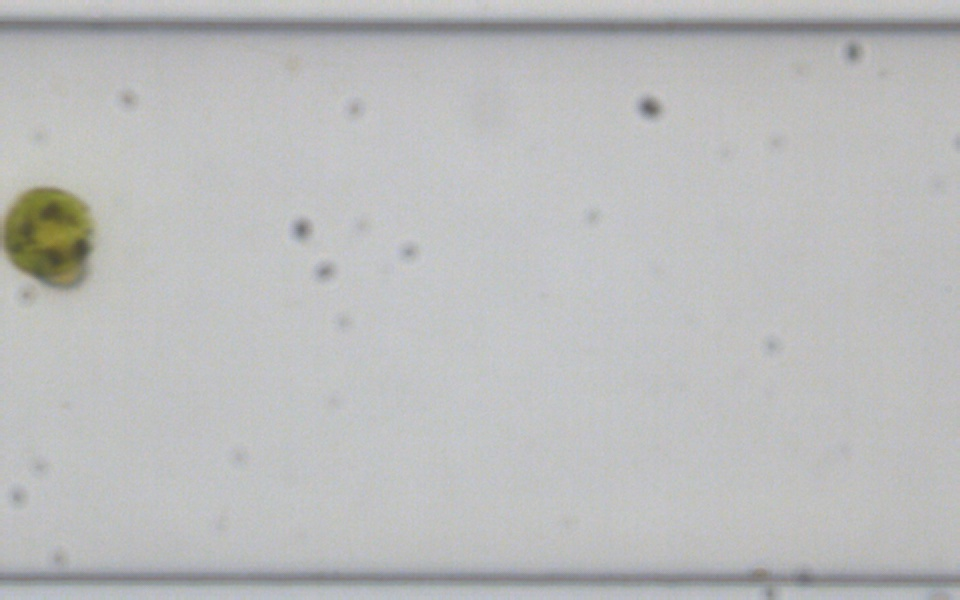Haematococcus: (0, 181, 99, 297)
